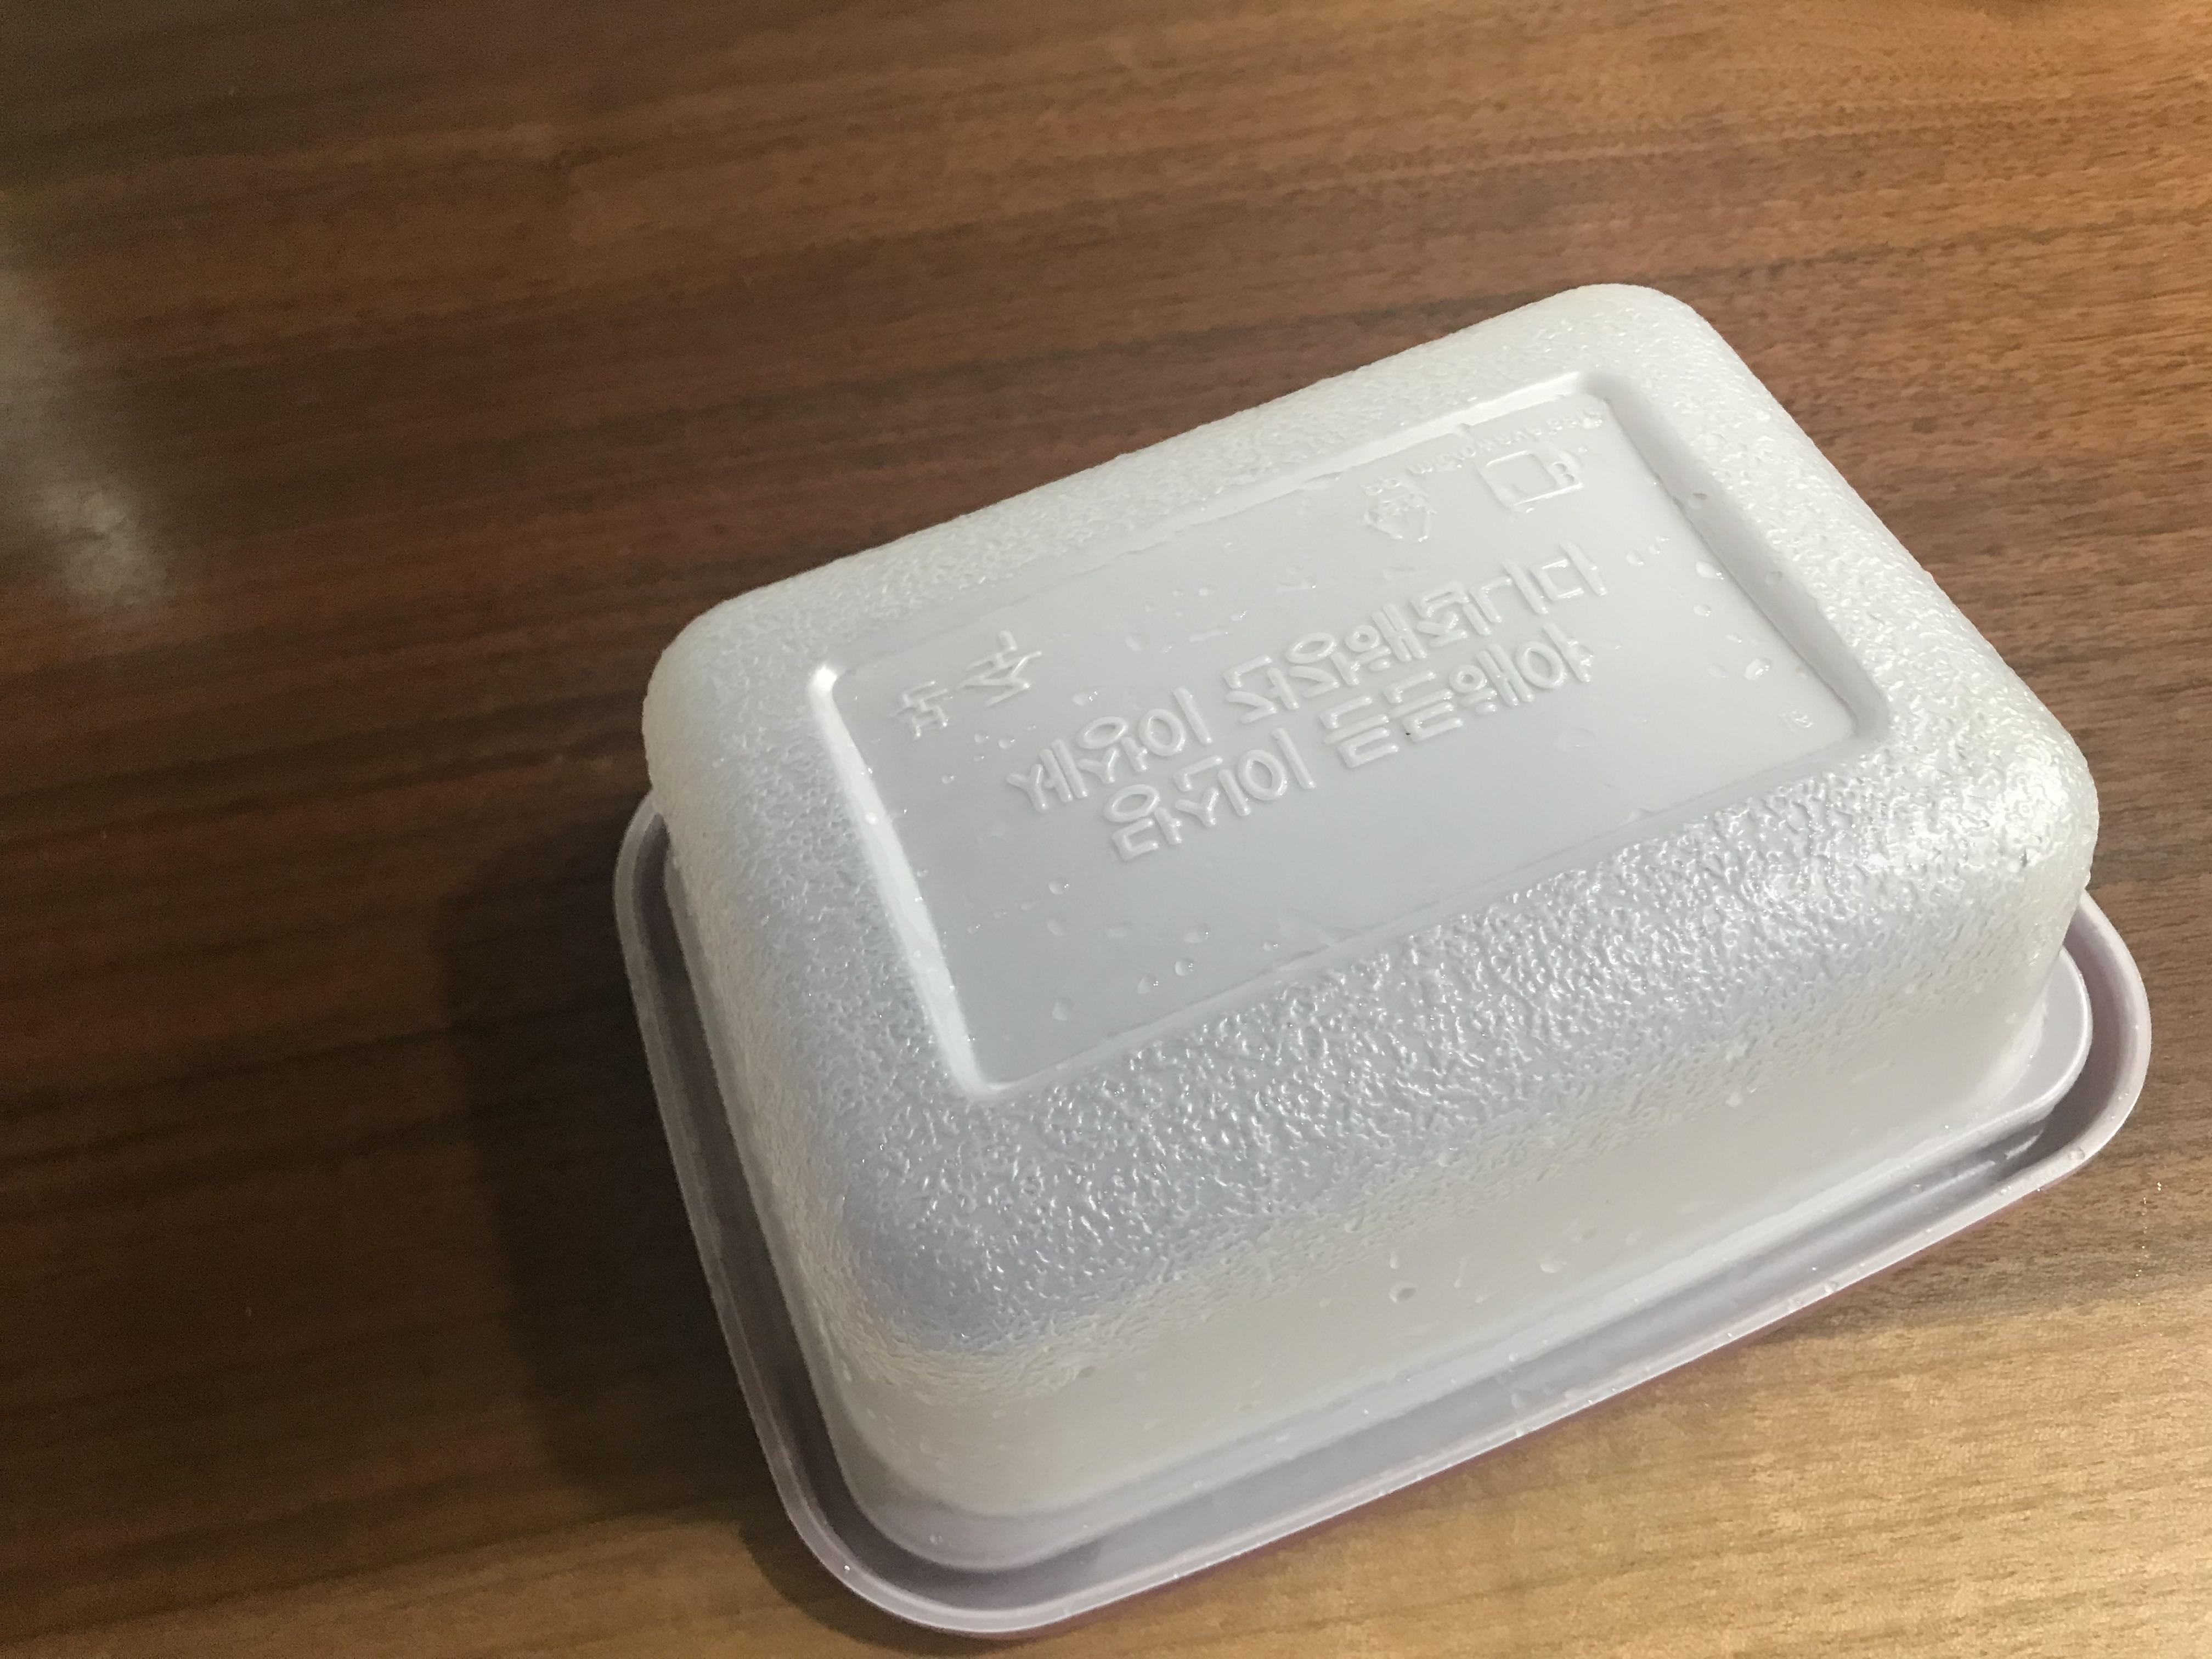bottle: (583, 270, 2212, 1581)
